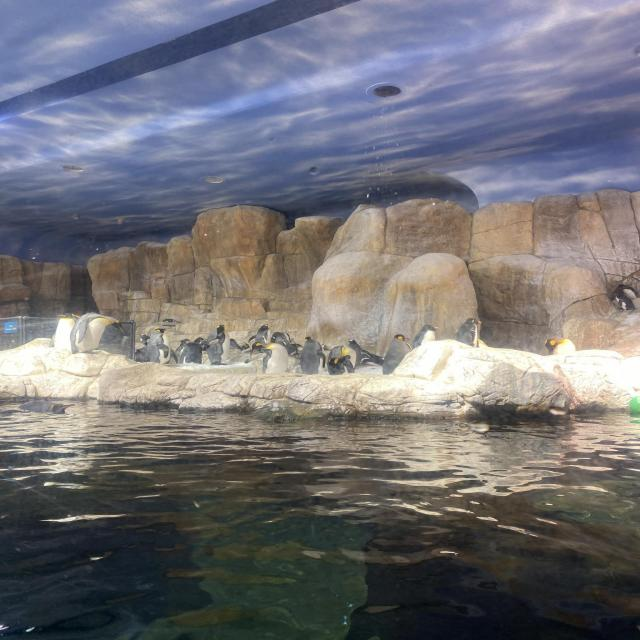penguin: (76, 308, 114, 356), (148, 325, 190, 367), (51, 308, 79, 352), (211, 321, 232, 346), (137, 335, 153, 355)
